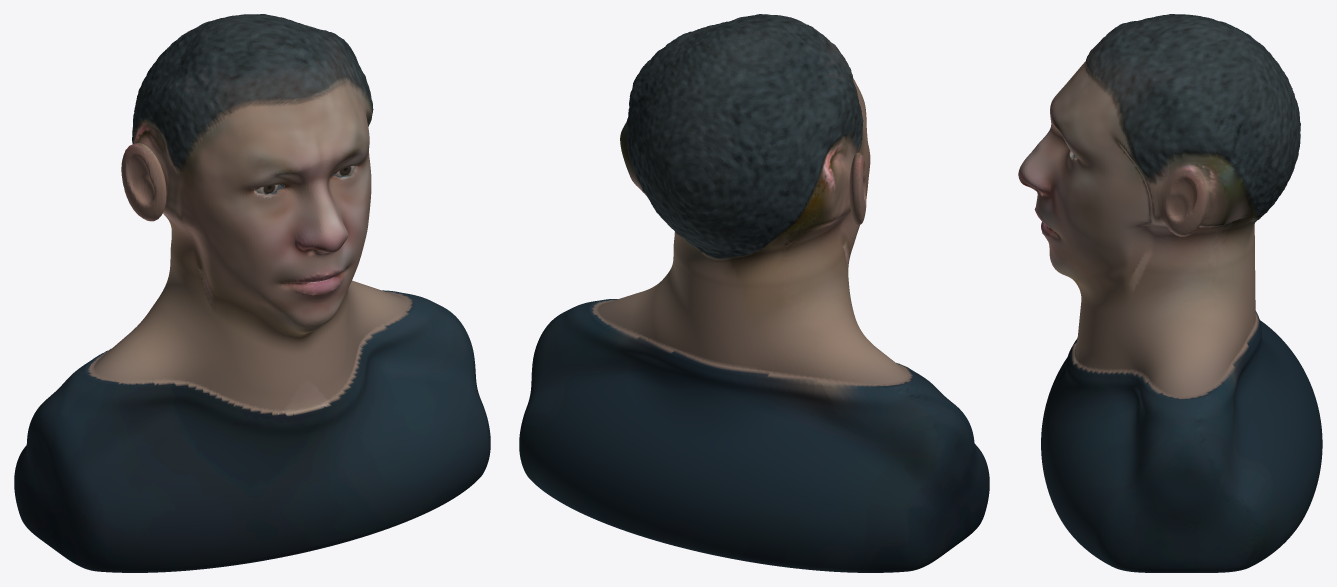
Rendered from sam_take3.glb.
3 renders of one model, left to right at view 1: azimuth 30°, elevation 25°; view 2: azimuth 150°, elevation 25°; view 3: azimuth 270°, elevation 25°, orthographic. The views are drawn at different scales.
Visible parts, largest first — view 1: head; view 2: head; view 3: head.
Part boxes in pixels (x1,y1,x2,y2): head: [14, 14, 490, 572]; head: [519, 14, 989, 572]; head: [1018, 14, 1322, 572].
Size of the model in its own units: 0.3556 by 0.3871 by 0.2329.
